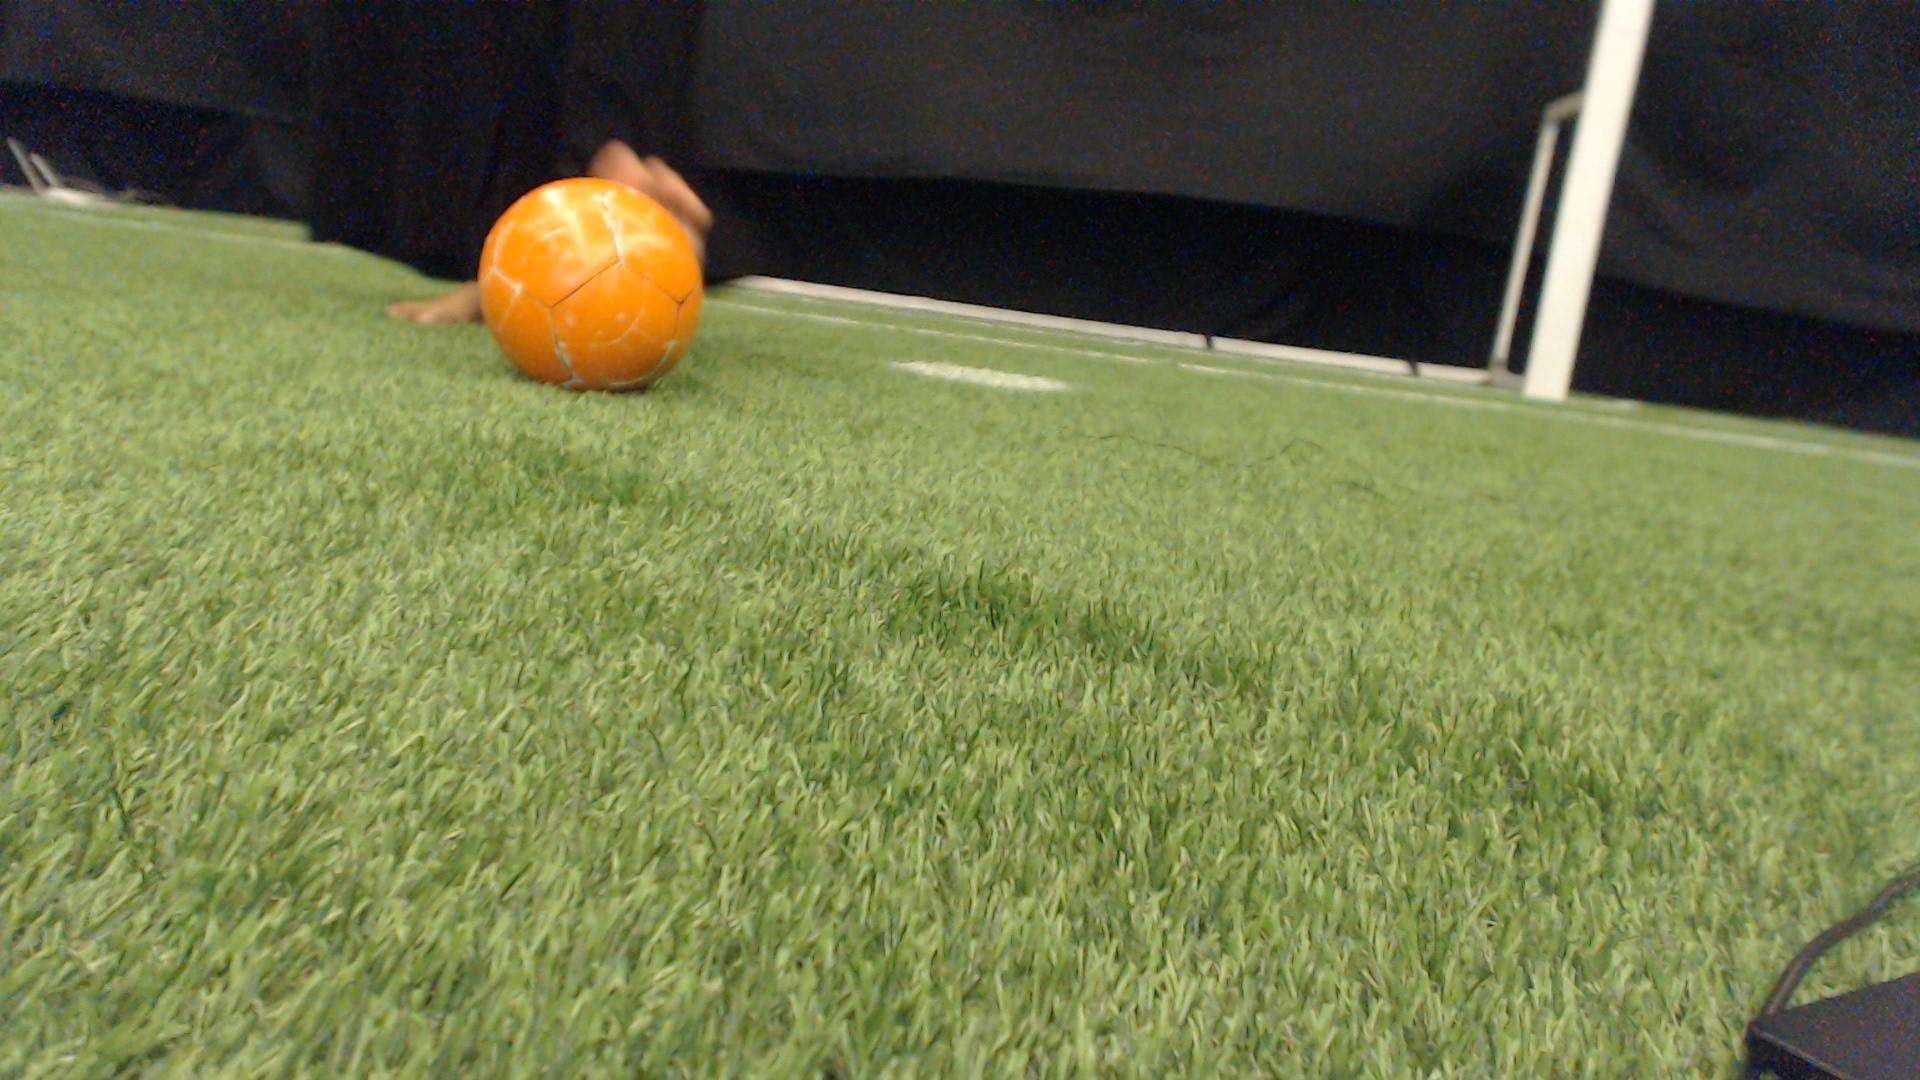bola: (462, 156, 741, 406)
